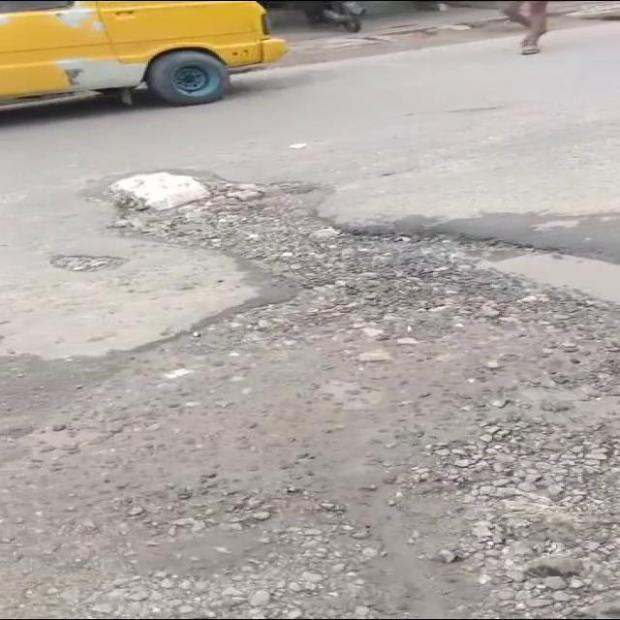lubang: (2, 181, 619, 614), (50, 254, 127, 272)
